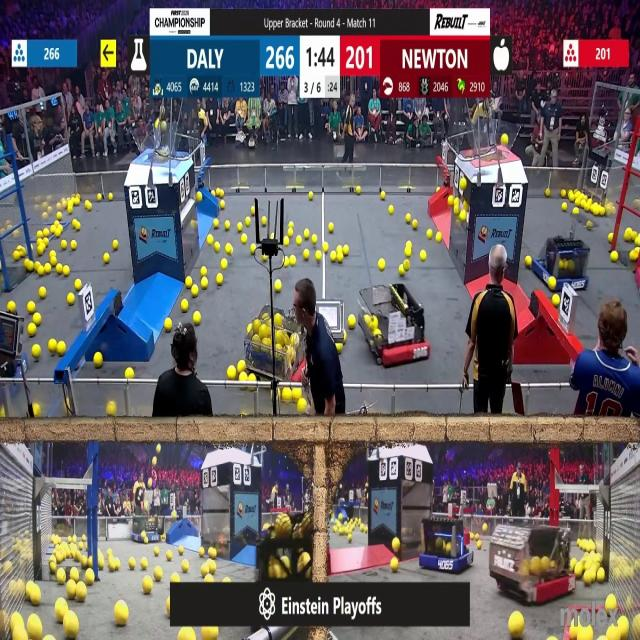ball_airborne: (500, 135, 507, 146), (460, 178, 467, 189), (162, 120, 168, 131), (155, 119, 159, 128)
ball_ground: (114, 600, 127, 626), (31, 587, 41, 606), (142, 578, 153, 595), (76, 584, 86, 602), (107, 402, 116, 418), (95, 352, 104, 367), (86, 569, 95, 584), (153, 567, 162, 581), (596, 569, 605, 582), (585, 571, 594, 584), (33, 404, 41, 418), (59, 342, 67, 356), (296, 398, 304, 412), (48, 340, 56, 354), (70, 568, 79, 580), (33, 345, 41, 358), (58, 569, 66, 582), (391, 558, 398, 572), (7, 302, 15, 314), (192, 313, 200, 325), (202, 563, 209, 576), (29, 323, 36, 336), (38, 287, 46, 298), (126, 367, 134, 378), (209, 548, 217, 559), (28, 303, 36, 314), (68, 292, 75, 304), (379, 260, 386, 272), (34, 313, 41, 325), (141, 558, 148, 570), (304, 249, 311, 260), (216, 274, 223, 285), (89, 556, 96, 567), (592, 205, 599, 216), (98, 557, 105, 568), (185, 276, 191, 288), (182, 561, 188, 573), (172, 572, 179, 582), (224, 244, 231, 254), (435, 234, 442, 244), (63, 267, 70, 277), (630, 250, 637, 260), (293, 388, 300, 398), (104, 252, 110, 263), (191, 285, 197, 296), (202, 278, 208, 289), (611, 251, 617, 262), (181, 301, 187, 312), (276, 281, 282, 292), (76, 280, 82, 291), (130, 558, 136, 569), (165, 322, 171, 333), (206, 574, 214, 582), (240, 374, 248, 382), (44, 266, 51, 275), (213, 243, 220, 252), (316, 251, 323, 260), (525, 256, 532, 265), (338, 253, 344, 263), (112, 240, 118, 250), (289, 255, 295, 265), (200, 548, 206, 558), (50, 563, 56, 573), (87, 202, 93, 212), (295, 236, 301, 245), (304, 231, 310, 240), (167, 552, 173, 561), (202, 268, 208, 277), (57, 266, 63, 275), (207, 236, 213, 245), (344, 246, 349, 256), (330, 251, 335, 261), (338, 344, 343, 354), (223, 576, 230, 583), (242, 236, 248, 244), (388, 206, 394, 214), (218, 188, 224, 196), (108, 192, 114, 200), (71, 241, 76, 250), (284, 237, 289, 246), (427, 231, 432, 240), (250, 244, 255, 253), (561, 189, 567, 196), (68, 206, 74, 213), (312, 236, 317, 244), (219, 201, 224, 209), (328, 222, 332, 231), (608, 234, 612, 243), (224, 220, 228, 229), (544, 188, 549, 195), (381, 191, 386, 198), (562, 204, 567, 211), (98, 192, 102, 200), (264, 255, 269, 261), (200, 194, 203, 202), (252, 208, 255, 215), (310, 194, 312, 202)
goal: (464, 122, 519, 160), (129, 131, 187, 160)
robot_blue: (417, 516, 474, 576), (538, 232, 590, 292), (129, 516, 164, 542)
robot_red: (363, 284, 431, 370), (512, 524, 577, 602), (245, 315, 299, 379)
